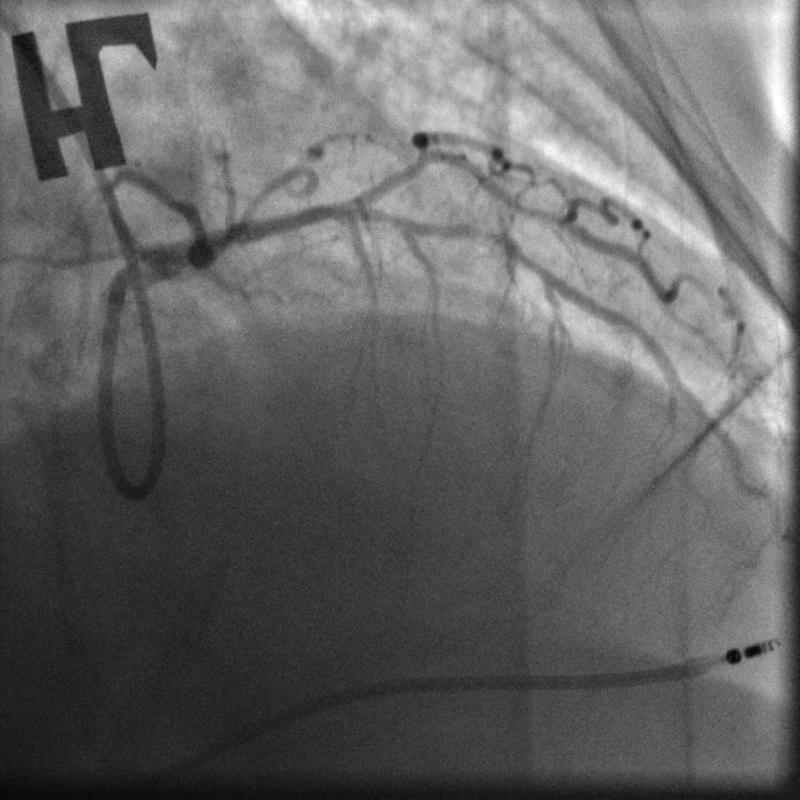Stenosis: (450, 217, 518, 257)
